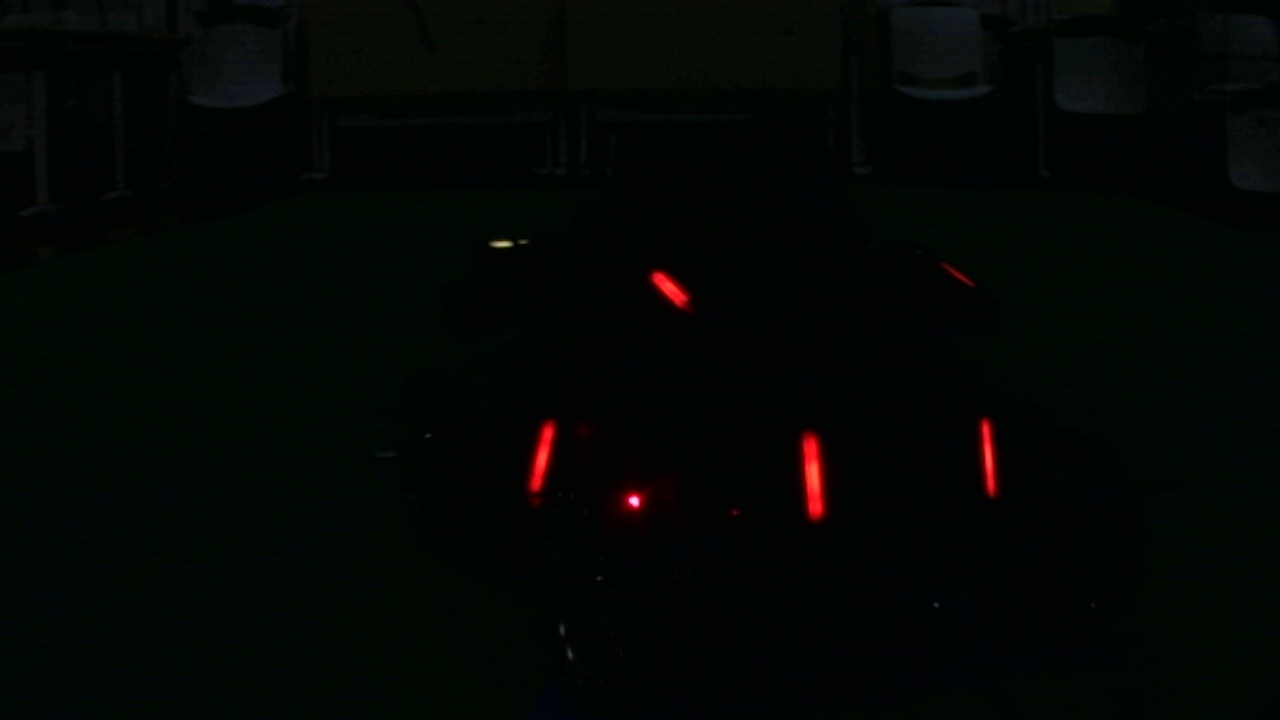lamp: (525, 411, 554, 501), (800, 411, 821, 523), (977, 414, 997, 497)
notpair1: (529, 413, 824, 521)
pair1: (800, 414, 997, 526)
